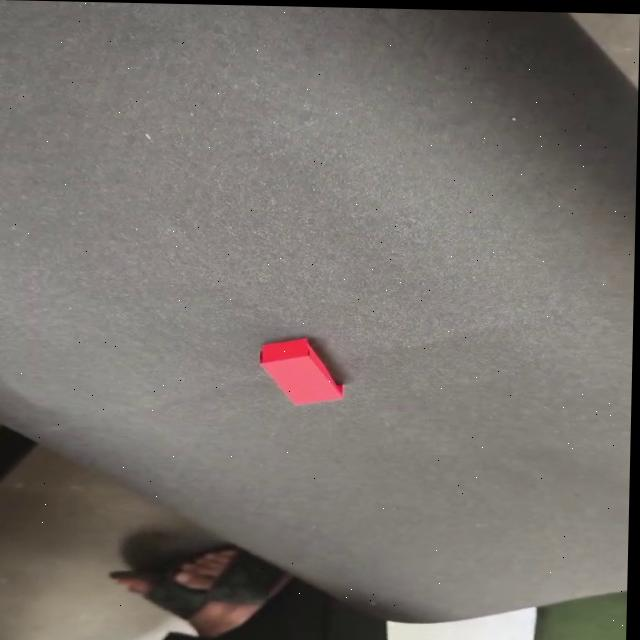red block: (256, 337, 347, 408)
